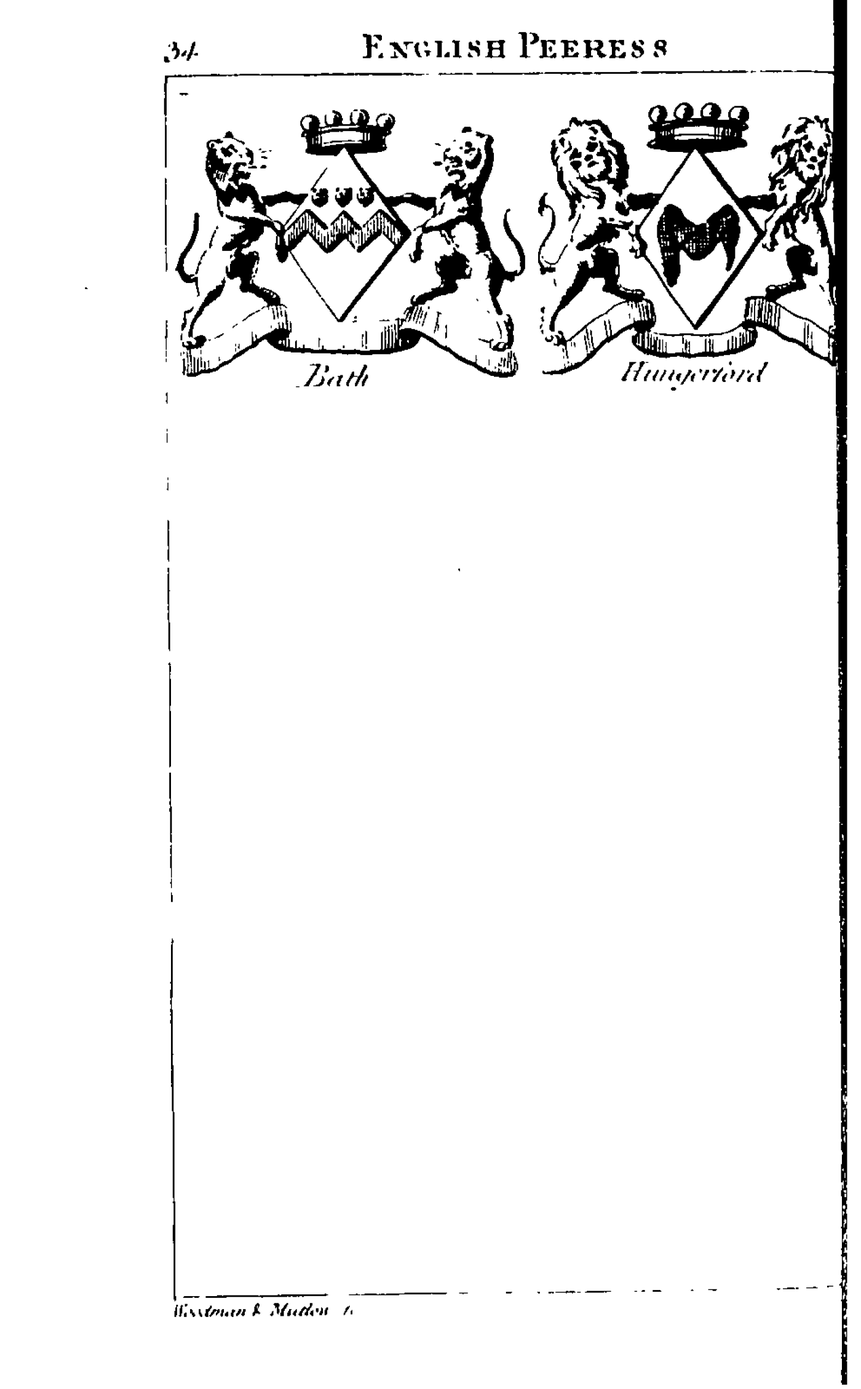coat_of_arms: (171, 89, 532, 406), (536, 81, 861, 403)
